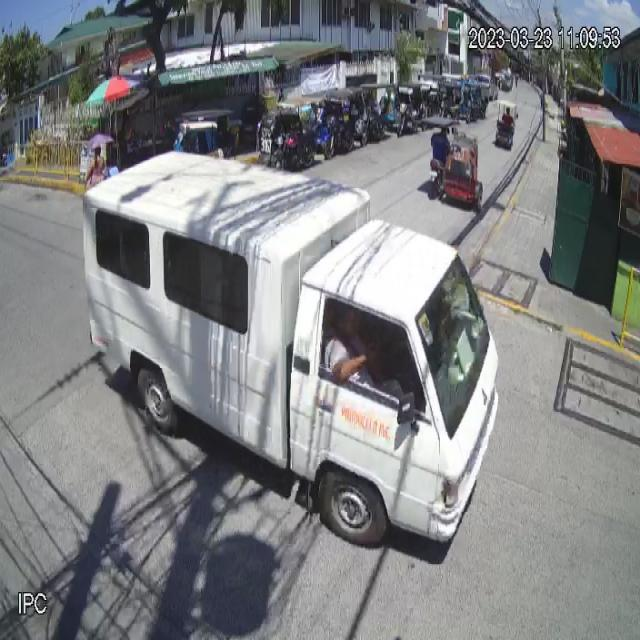Tricycle: (421, 116, 484, 214)
Van: (84, 148, 500, 562)
